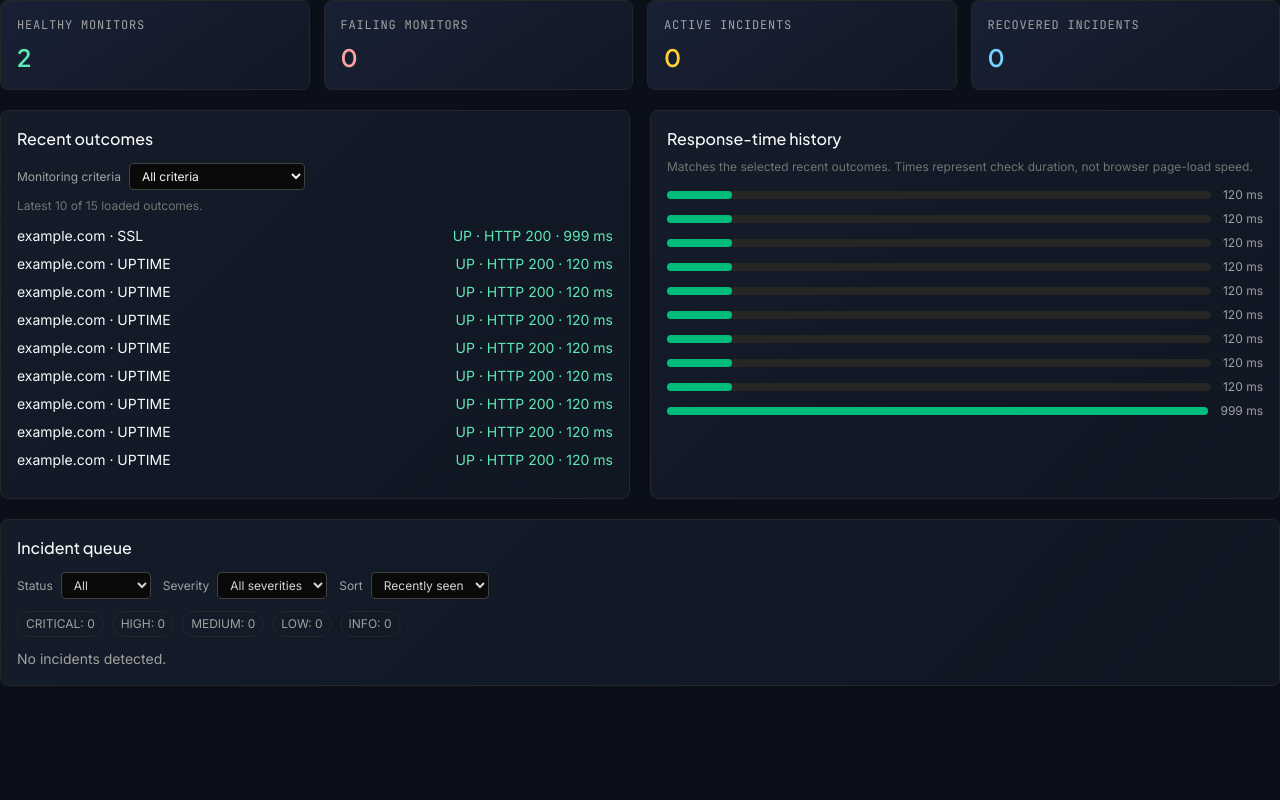
HealthPanel › filters outcomes and timing samples together and bounds both lists
Select "SSL" in the dropdown labelled "Monitoring criteria" at point(217, 176), box x1=129 y1=163 x2=305 y2=190
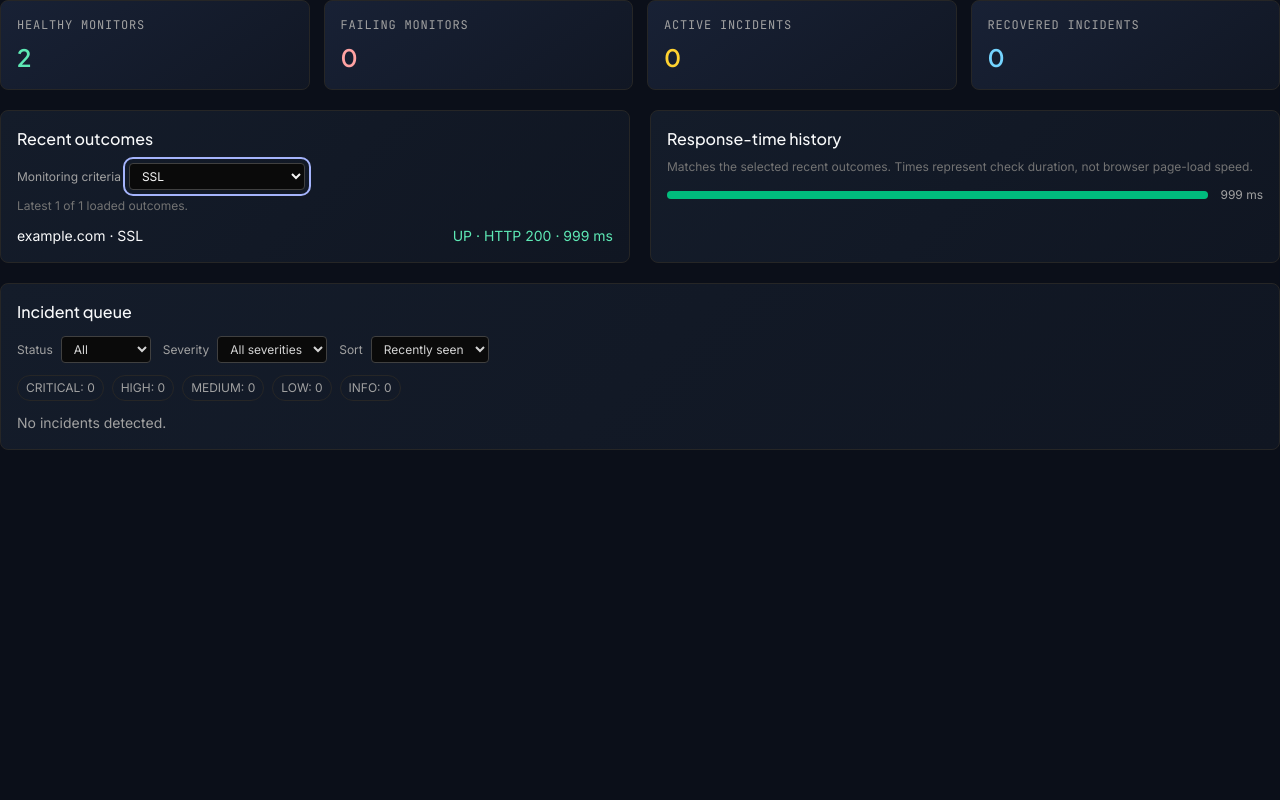
Result: the text "999 ms" is shown at x1=1220 y1=187 x2=1263 y2=203
Result: the text "120 ms" is gone
Select "SEO" in the dropdown labelled "Monitoring criteria" at point(217, 176), box x1=129 y1=163 x2=305 y2=190
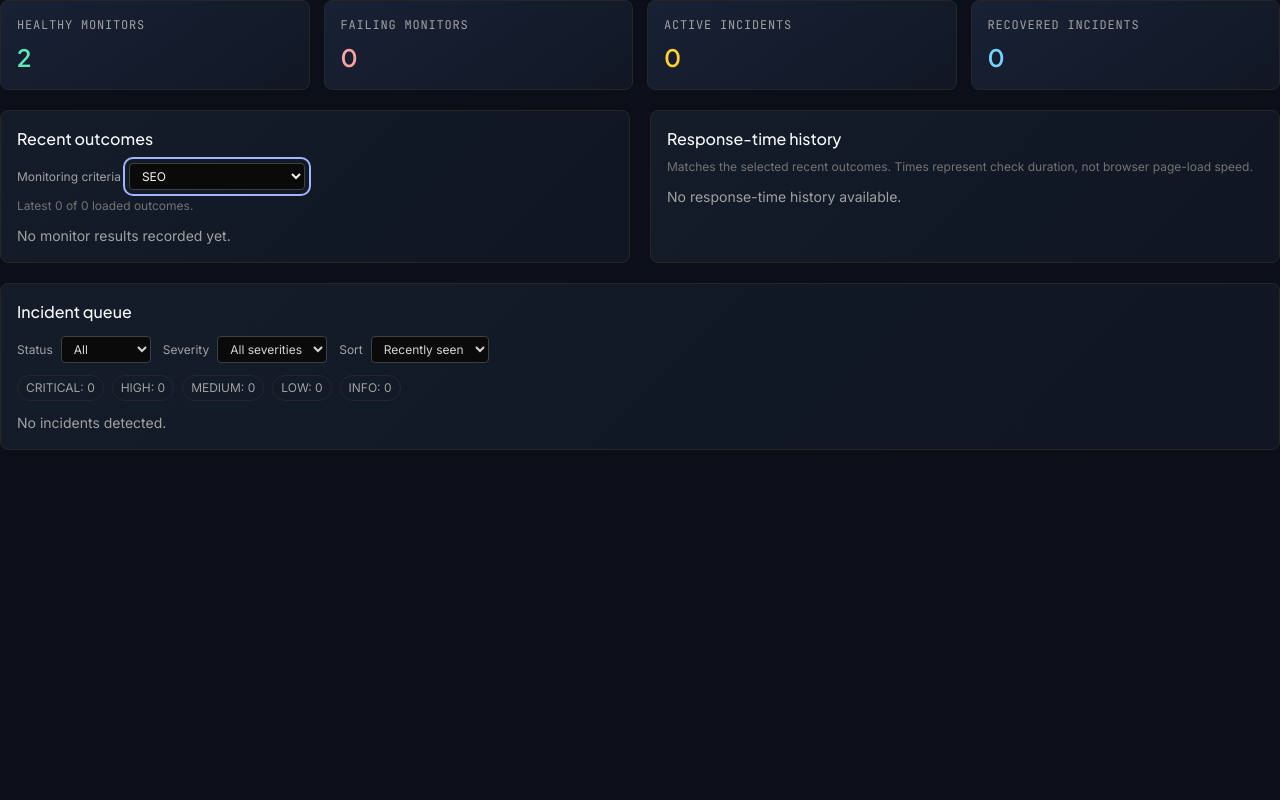
Result: the text "No response-time history available." is shown at x1=667 y1=188 x2=901 y2=205
